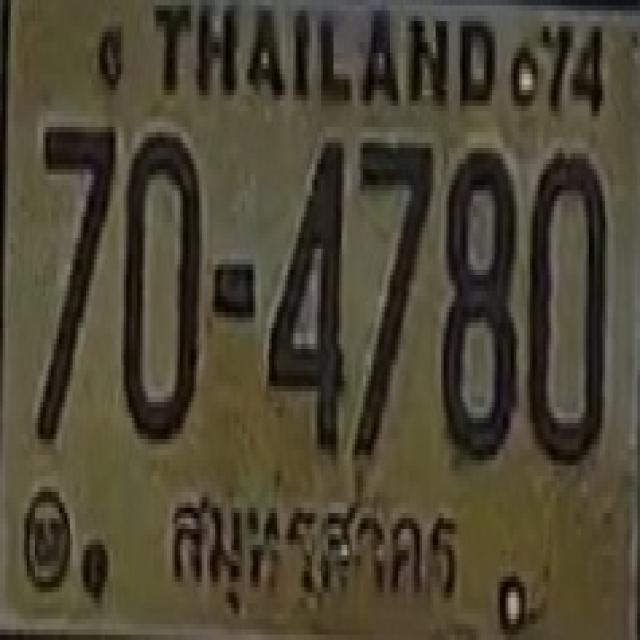0: (527, 148, 605, 466), (121, 130, 199, 442)
4: (266, 138, 344, 450)
7: (35, 122, 116, 444), (356, 138, 432, 460)
8: (440, 145, 515, 463)
SKN: (155, 482, 477, 634)
